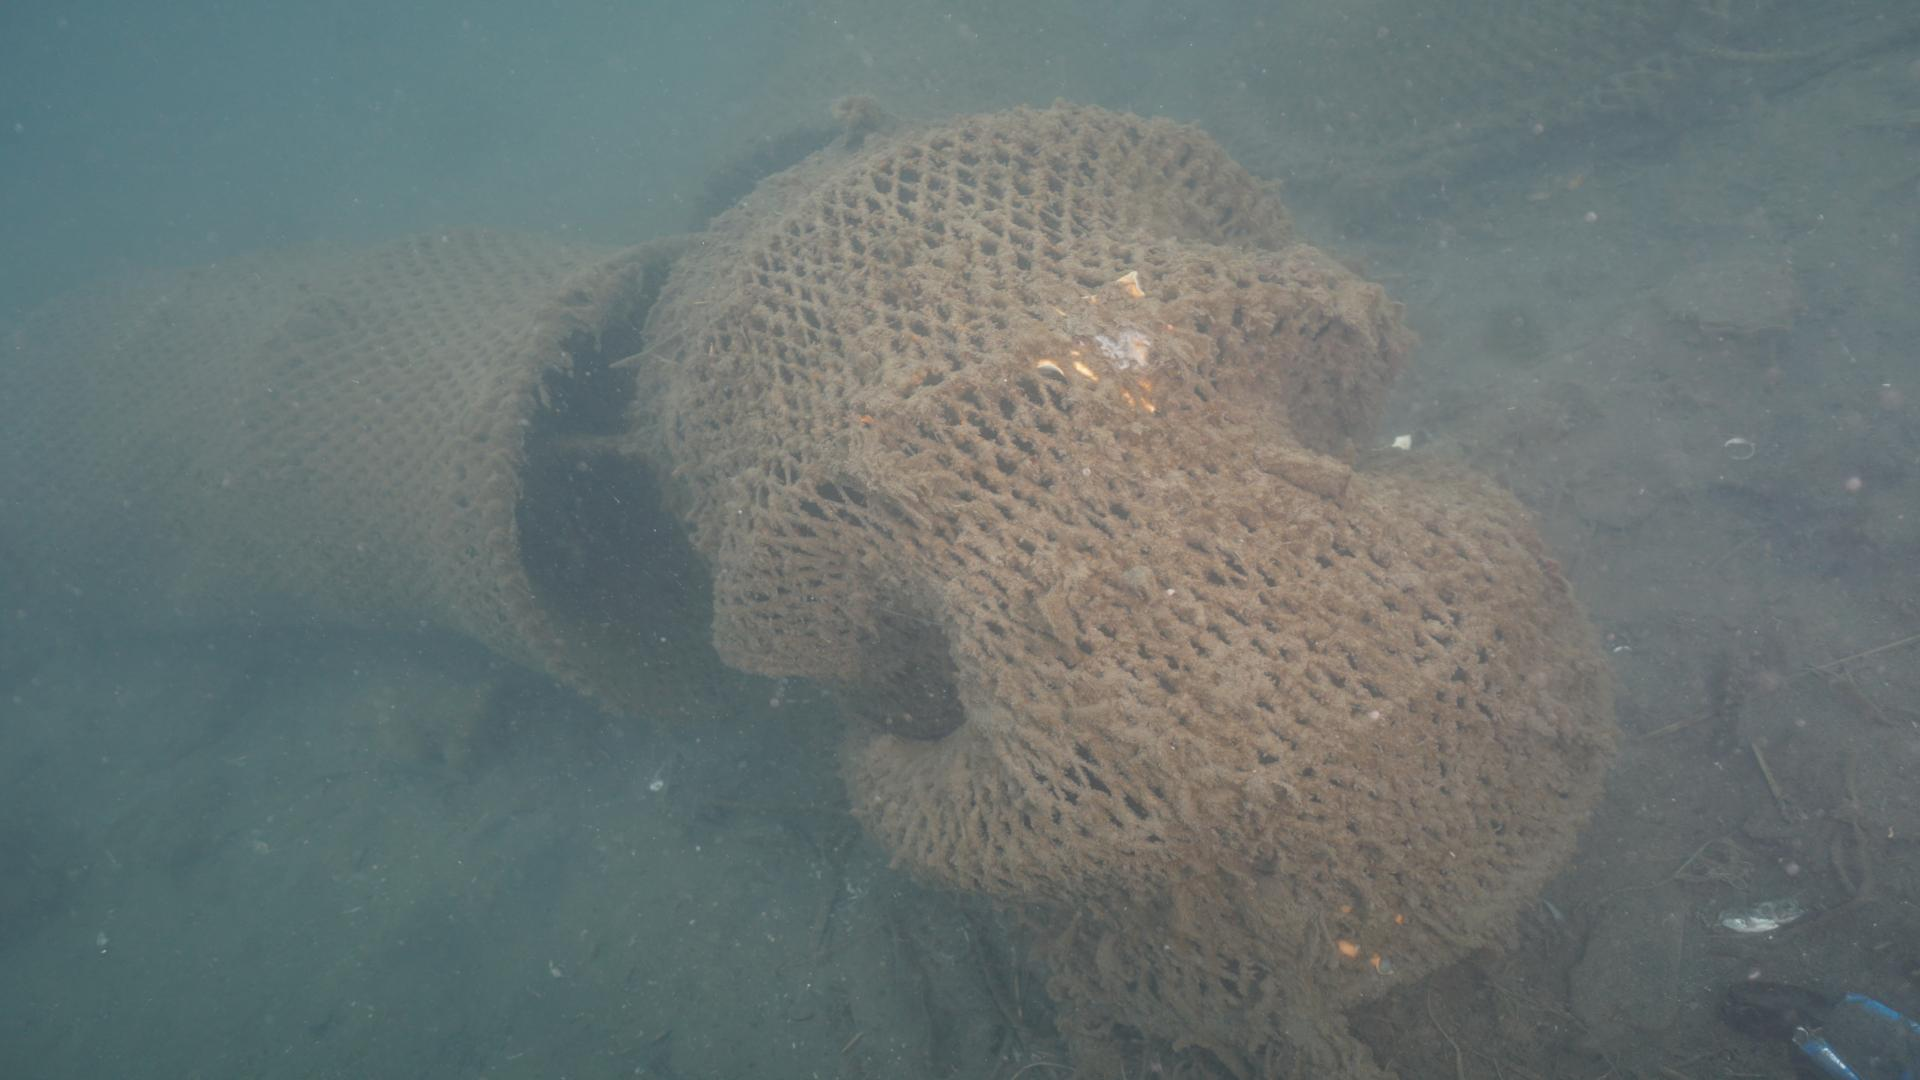spring fish trap: (622, 95, 1626, 1050), (0, 220, 793, 723)
